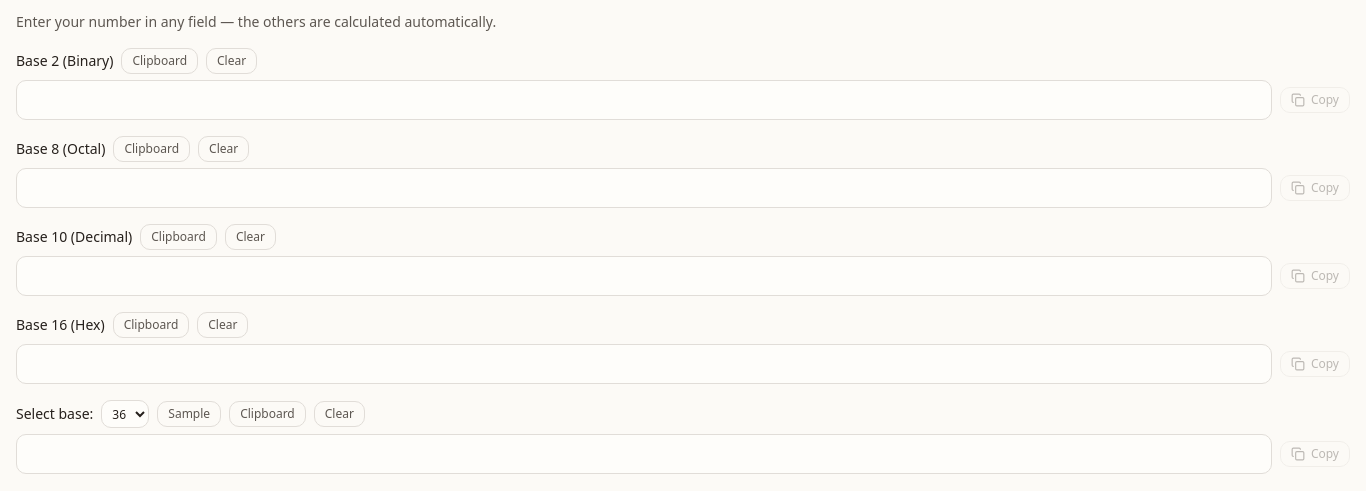
NumberTool › computes every base when one field is edited
Type "255" into the field named "Base 10 (Decimal)" at (644, 276), box [16,256,1272,296]
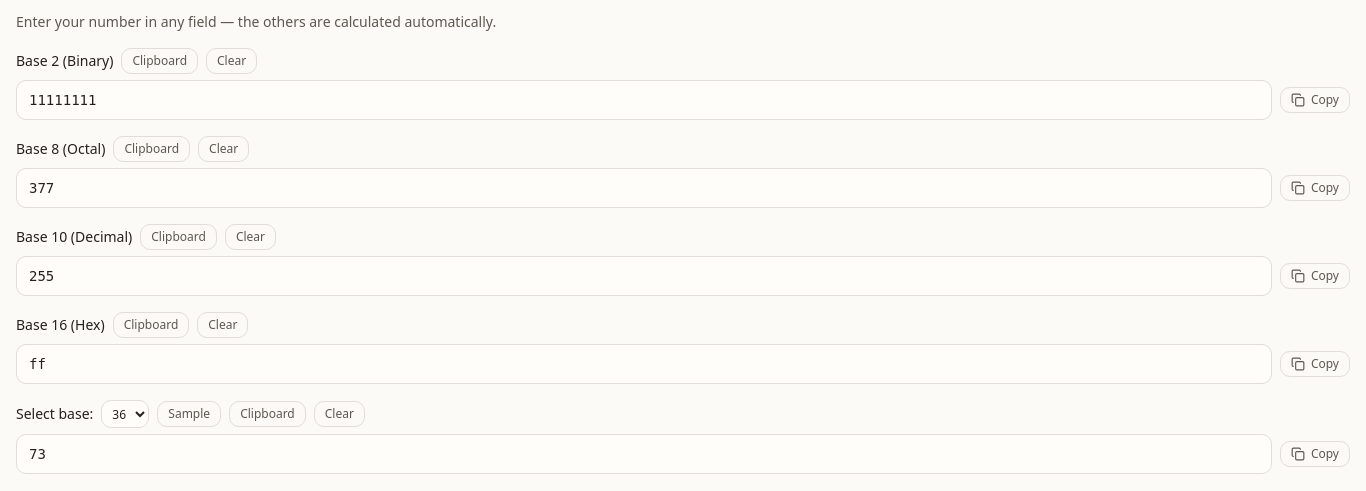
Now the field named "Base 2 (Binary)" holds "11111111", box [16,80,1272,120]
Now the field named "Base 16 (Hex)" holds "ff", box [16,344,1272,384]
Now the field named "Select base:" holds "73", box [16,434,1272,474]
